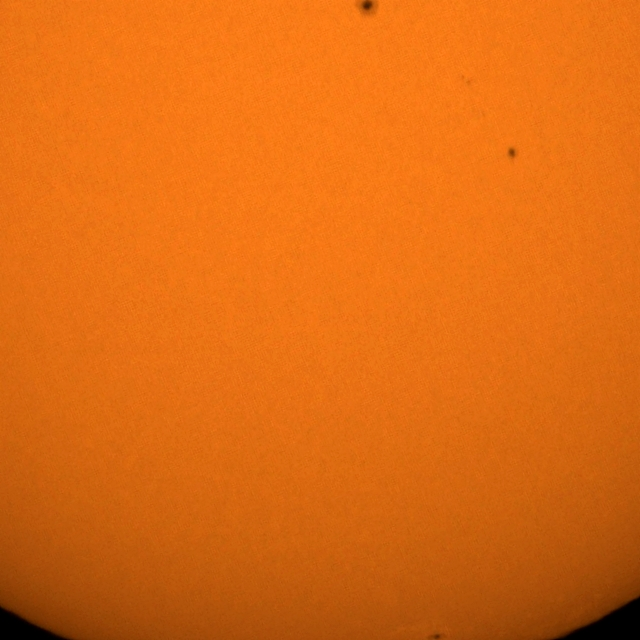sunspot: (354, 0, 378, 18), (506, 146, 519, 162)
